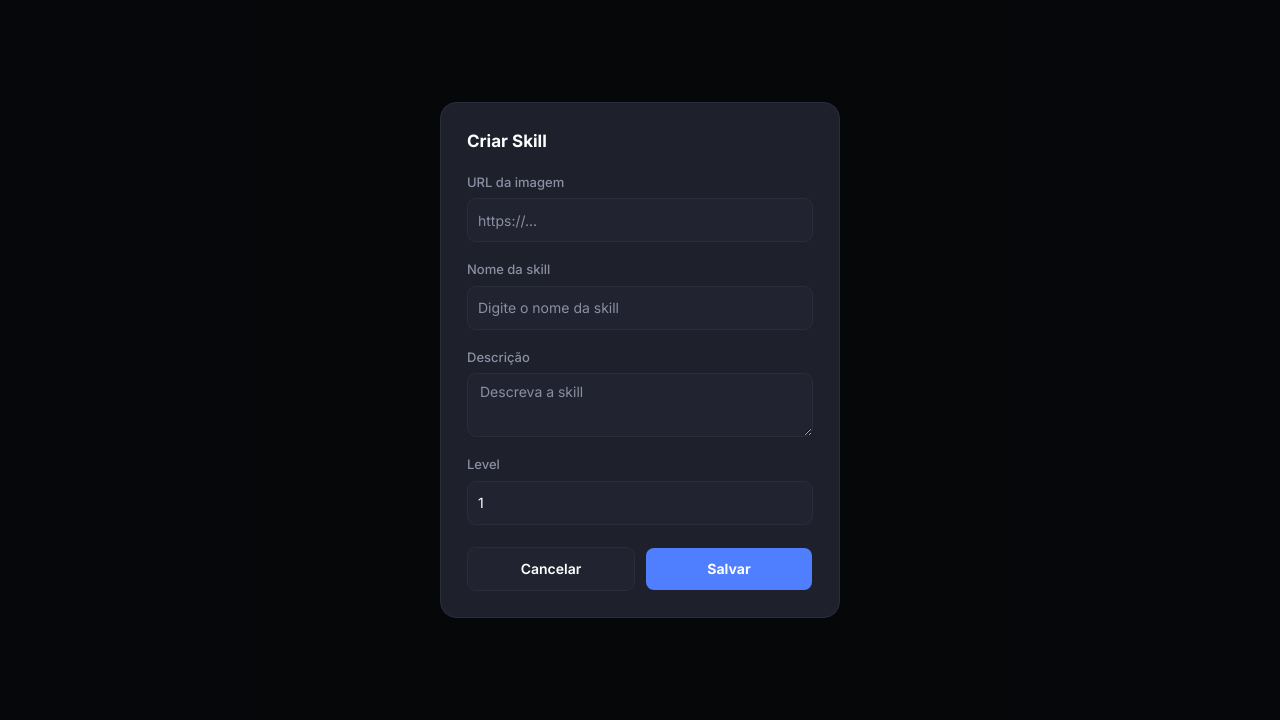
Test: CreateSkillModal › validates required fields and an invalid image URL
Type "not-a-url" into the field with placeholder "https://..." at (640, 220), box [467,198,813,242]
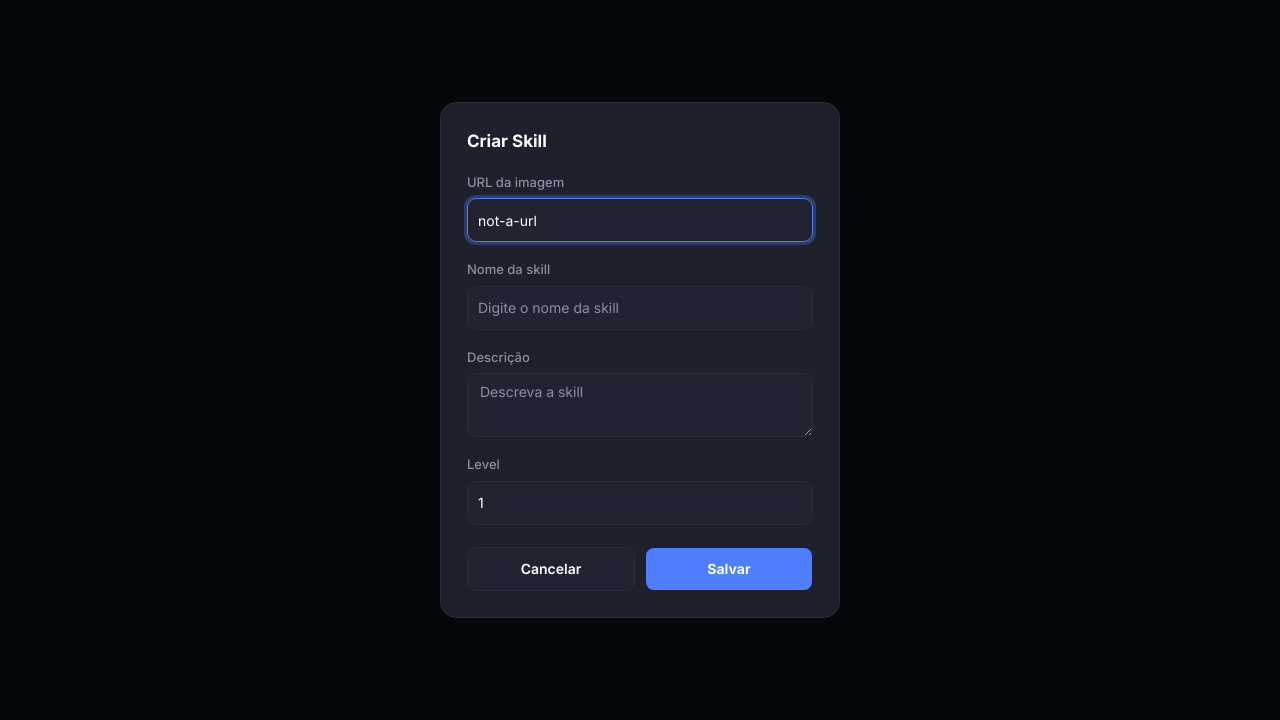
Click the button "Salvar" at (729, 569), box [645,547,813,591]
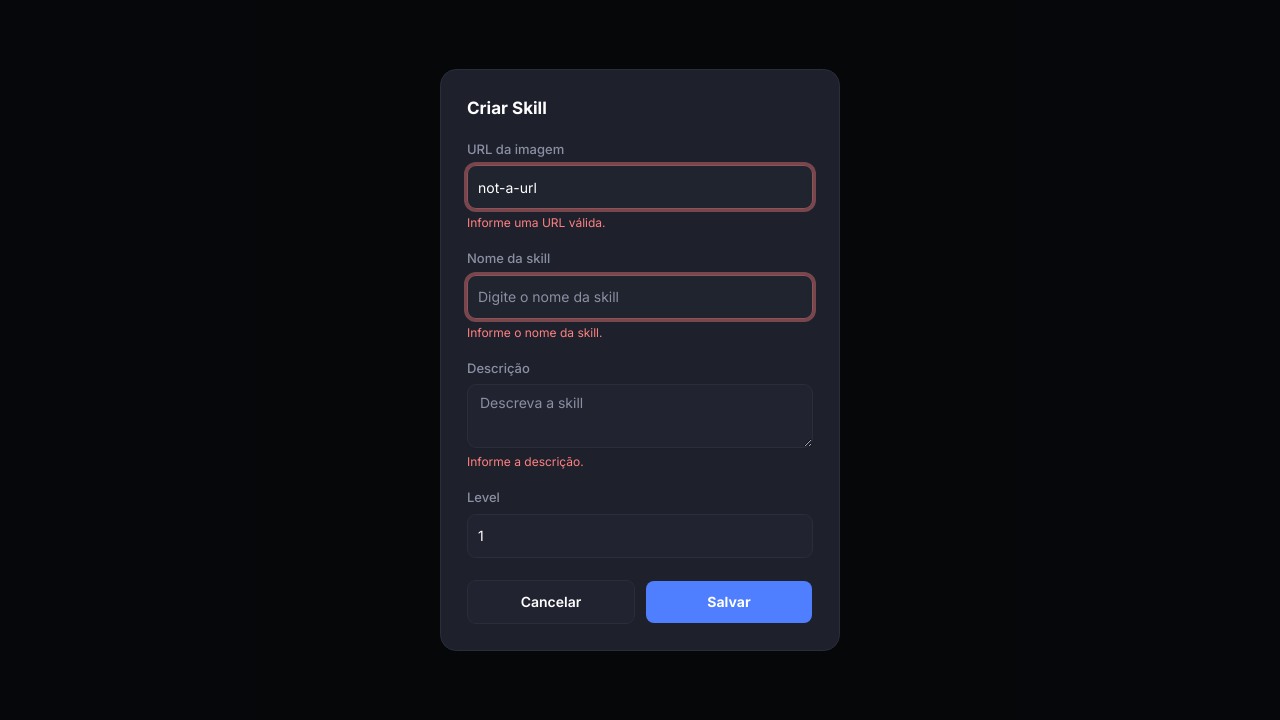
Now the text "Informe uma URL válida." is shown, box [467,215,606,230]
Now the text "Informe o nome da skill." is shown, box [467,325,602,340]
Now the text "Informe a descrição." is shown, box [467,454,584,469]
